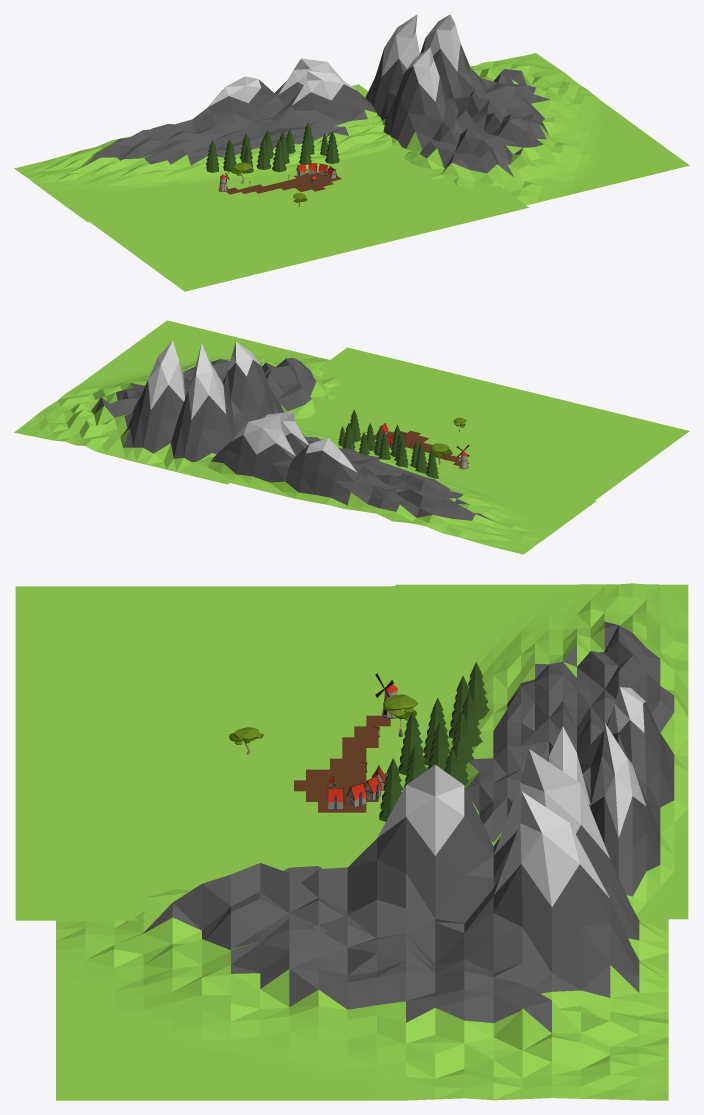
File: town.dae
3 views of the same model, one above another, from view 1: azimuth 30°, elevation 25°; view 2: azimuth 150°, elevation 25°; view 3: azimuth 270°, elevation 25° (orthographic). The views are drawn at different scales.
Visible parts, largest first — view 1: Plane, Plane_001; view 2: Plane, Plane_001; view 3: Plane, Plane_001, Pine_010, Pine_012.
Boxes of the visible parts, x1=… form: Plane: x1=14, y1=58, x2=528, y2=291; Plane_001: x1=365, y1=14, x2=689, y2=205; Plane: x1=181, y1=347, x2=689, y2=554; Plane_001: x1=14, y1=320, x2=339, y2=484; Plane: x1=15, y1=583, x2=688, y2=920; Plane_001: x1=56, y1=749, x2=668, y2=1100; Pine_010: x1=398, y1=711, x2=427, y2=775; Pine_012: x1=379, y1=758, x2=403, y2=821.
Bounding box in the file's own units: 300 × 170 × 56.43.
